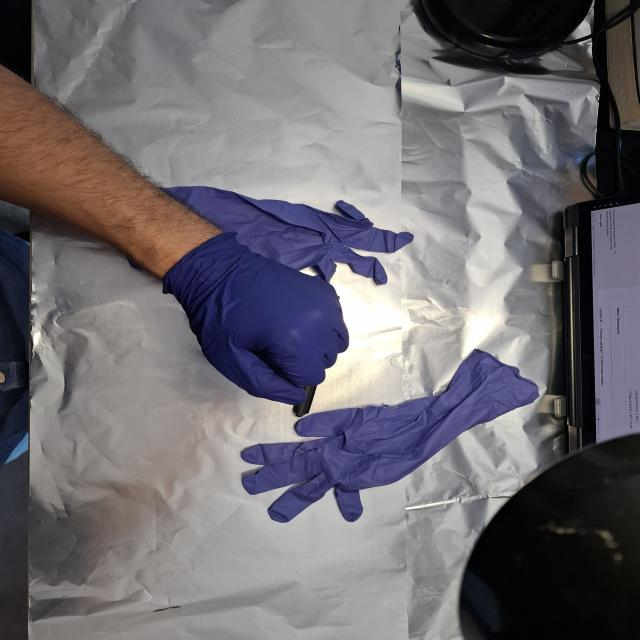glove_on: (160, 230, 353, 406)
